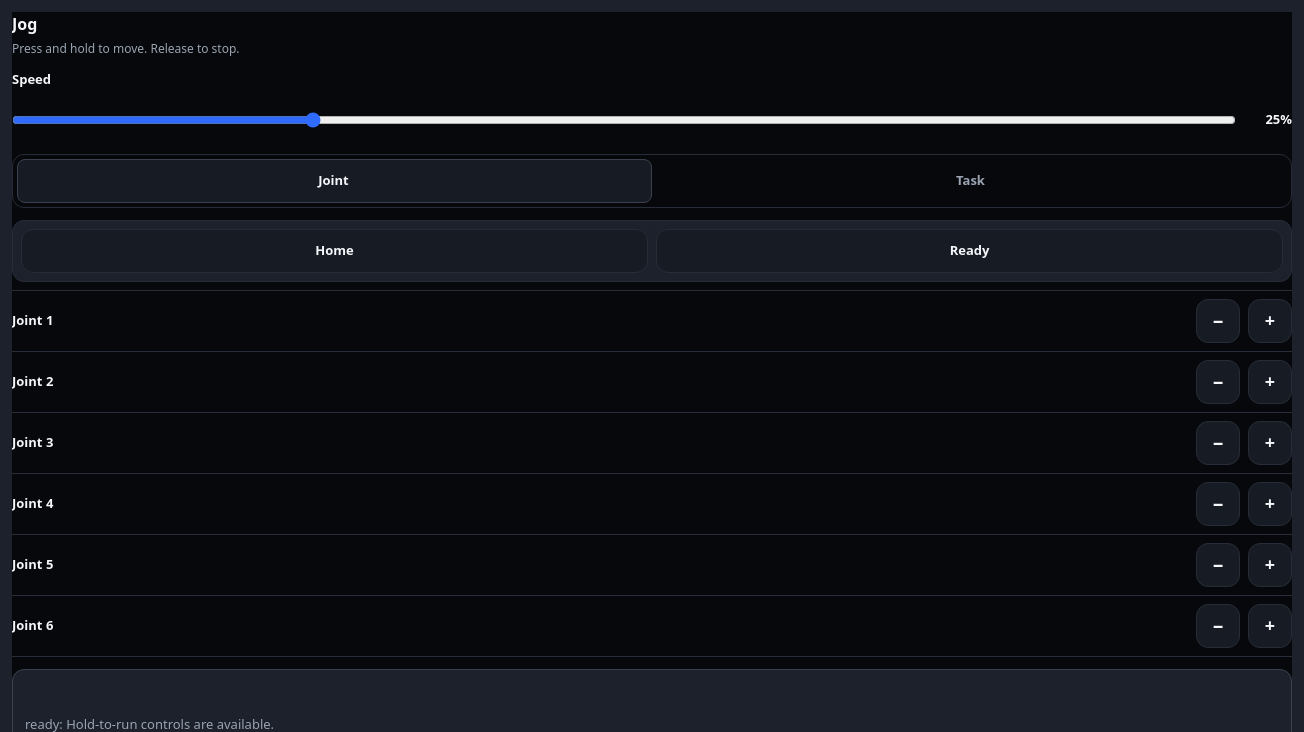
HoldControls › exposes joint, task, Home, and Ready holds
Check: the button named "Joint 6 +" is shown, box [1248,604,1292,648]
Check: the button "Home" is shown, box [21,228,648,272]
What coordinates should you click on to do the following:
click the tab "Task"
I would click on:
 (970, 180)
Its box is [654,158,1287,202].
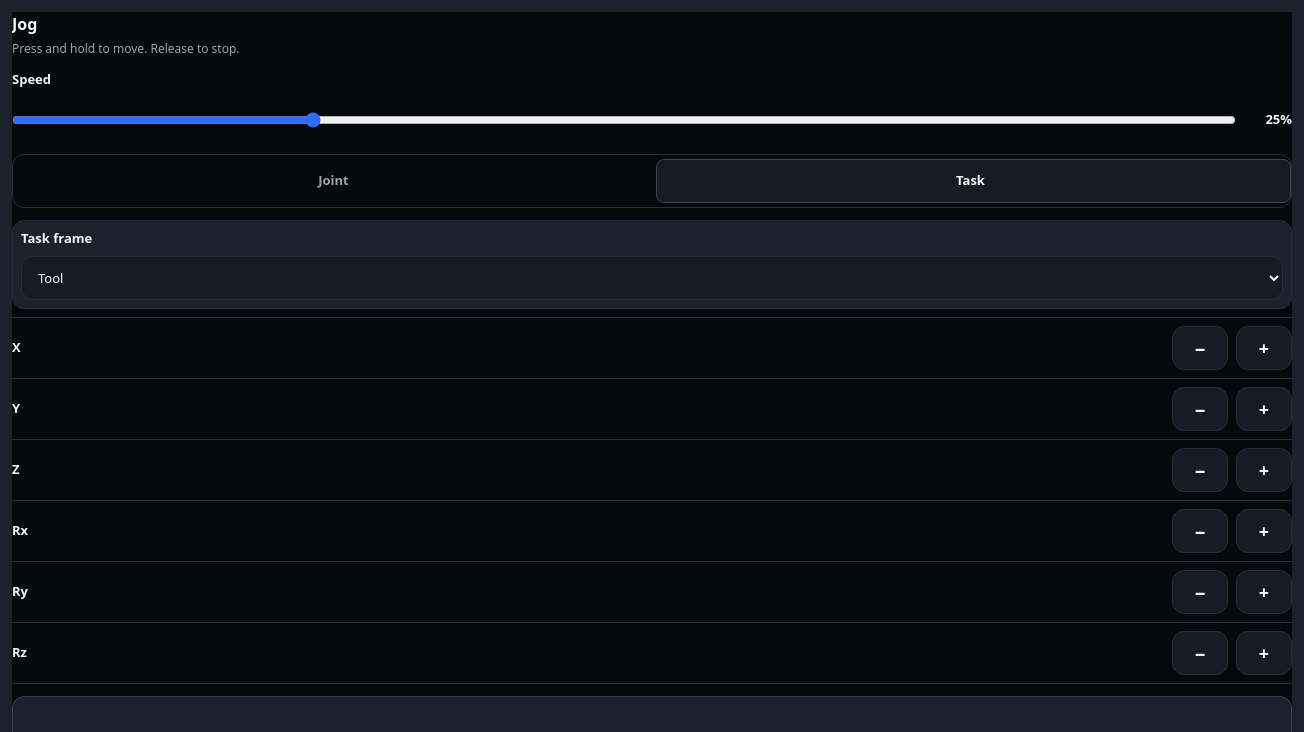
Check: the button named "Task Rz −" is shown, box [1172,631,1228,675]
Check: the dropdown named "Task jog frame" shows "Tool", box [21,256,1283,300]
